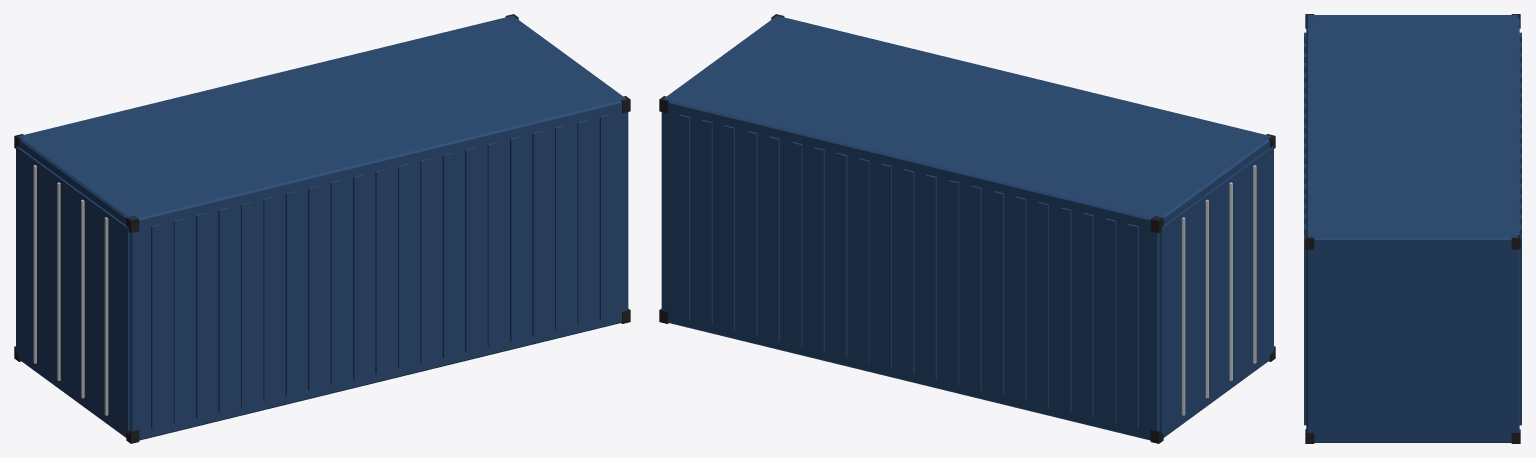
The model's file is container_blue.glb.
3 renders of one model, left to right at view 1: azimuth 30°, elevation 25°; view 2: azimuth 150°, elevation 25°; view 3: azimuth 270°, elevation 25°, orthographic. The views are drawn at different scales.
Parts seen in each view (by area): view 1: Body_LOD0; view 2: Body_LOD0; view 3: Body_LOD0.
Part boxes in pixels (x1,y1,x2,y2): Body_LOD0: (14, 14, 630, 443); Body_LOD0: (659, 14, 1275, 443); Body_LOD0: (1304, 14, 1521, 443).
Size of the model in its own units: 6.12 by 2.59 by 2.49.
